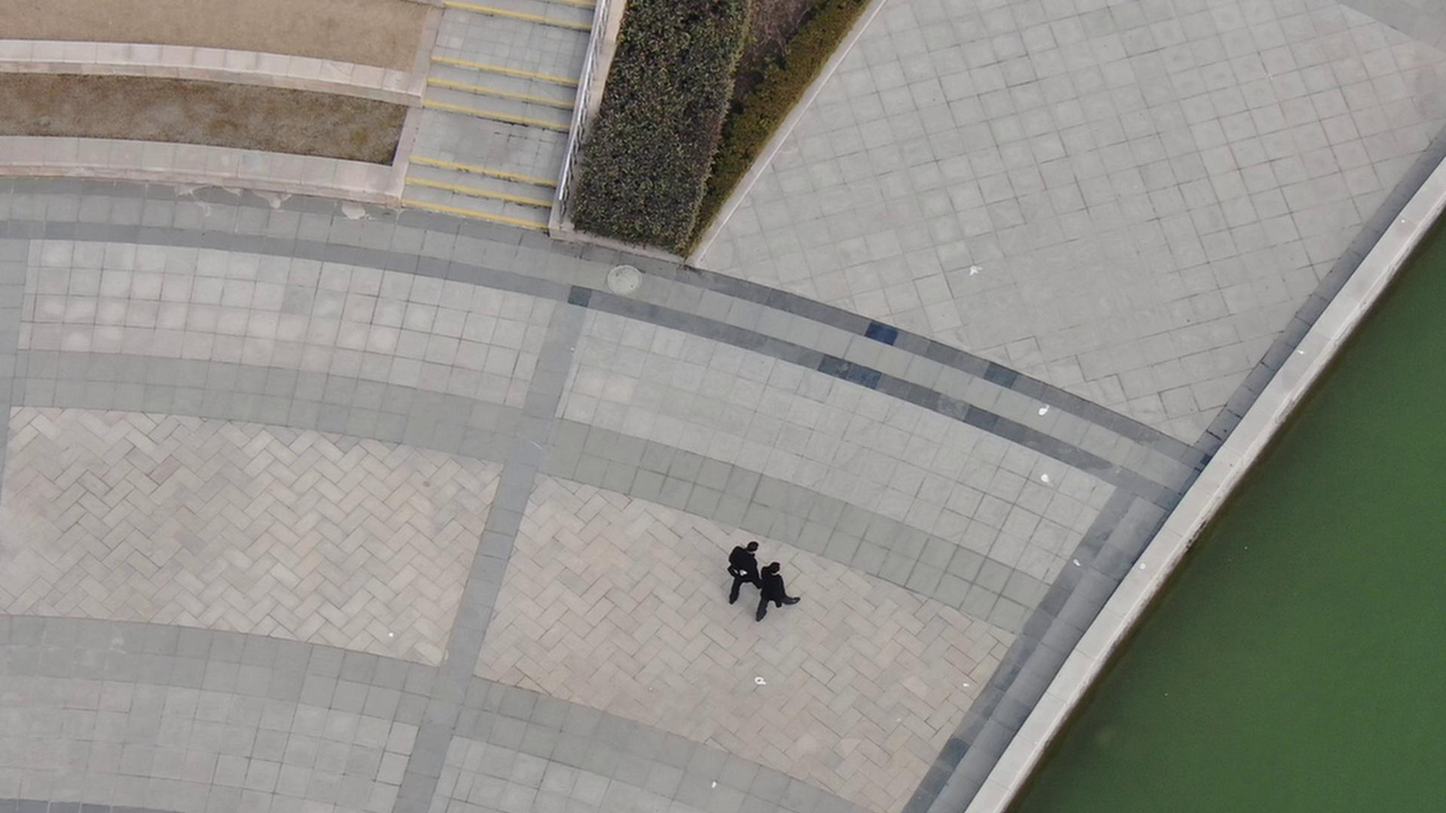human: (753, 557, 807, 628), (712, 540, 758, 606)
